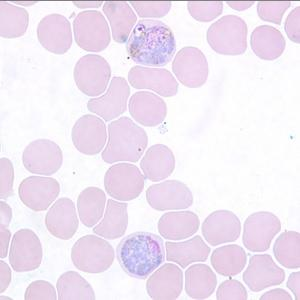Infected: (125, 18, 177, 66), (116, 230, 164, 278)
Uninfected: (102, 116, 148, 166), (87, 77, 131, 122), (206, 14, 249, 56), (128, 64, 180, 97), (242, 211, 282, 253), (72, 234, 114, 273), (242, 255, 286, 292), (91, 199, 129, 241), (171, 45, 208, 88), (105, 162, 145, 201), (71, 113, 108, 155), (74, 10, 110, 53), (9, 227, 43, 272), (23, 138, 63, 176), (145, 262, 185, 300), (147, 179, 194, 211), (201, 209, 242, 245), (18, 176, 60, 211), (128, 90, 167, 127), (75, 55, 110, 96), (139, 144, 176, 182), (37, 14, 72, 54), (158, 207, 200, 240), (0, 2, 32, 44), (45, 197, 77, 239), (249, 26, 286, 61), (78, 185, 107, 227), (184, 262, 216, 299), (211, 244, 247, 276), (56, 271, 94, 300), (273, 231, 300, 268), (186, 0, 222, 22)
